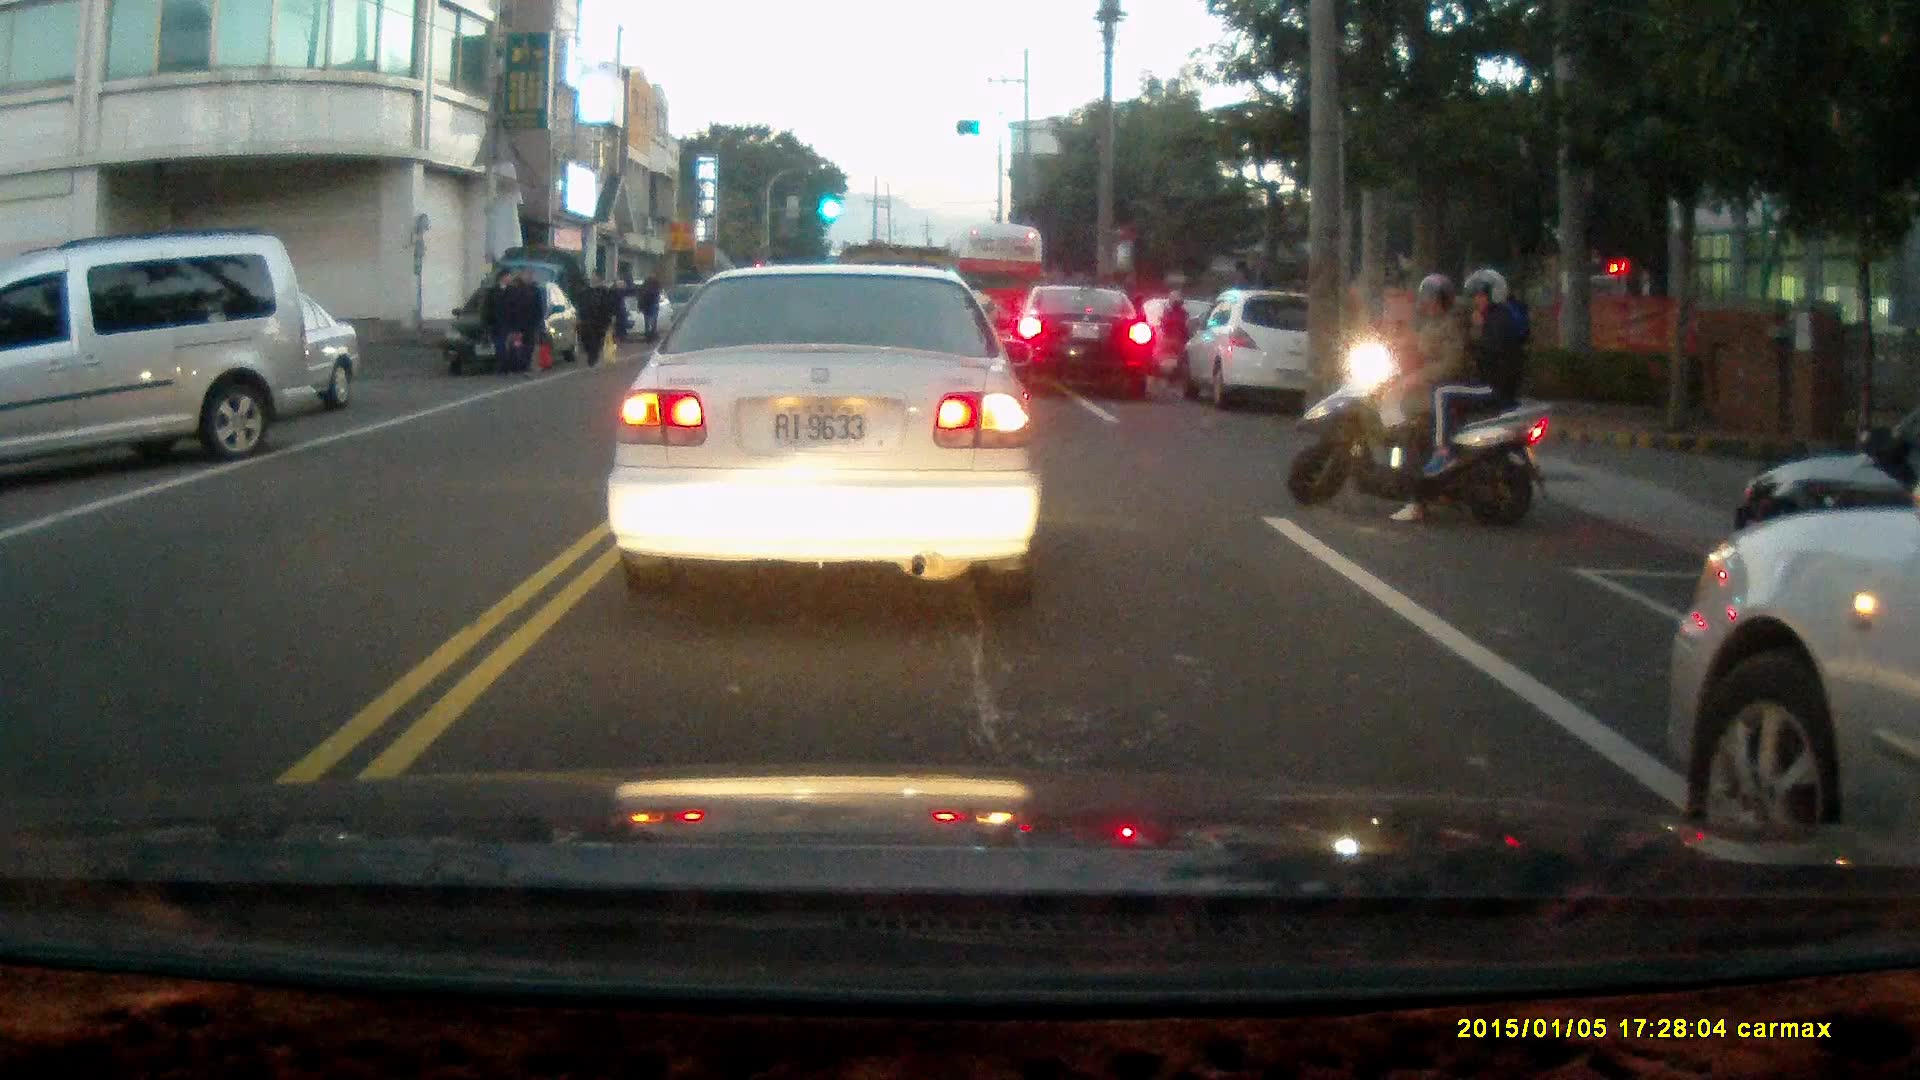pedestrian: (480, 262, 523, 381), (573, 265, 612, 369), (506, 263, 541, 377), (605, 268, 633, 349), (640, 270, 667, 341)
rider: (1280, 265, 1555, 534), (1155, 284, 1195, 389)
vehicle: (604, 259, 1043, 602), (1665, 477, 1920, 846), (1, 239, 312, 480), (1188, 289, 1347, 405), (1008, 286, 1155, 401), (442, 279, 583, 379)
